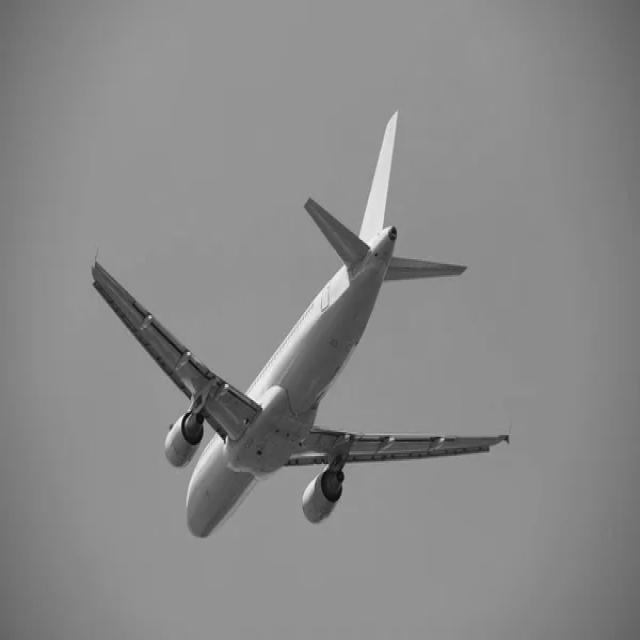Aircraft: (87, 105, 517, 545)
